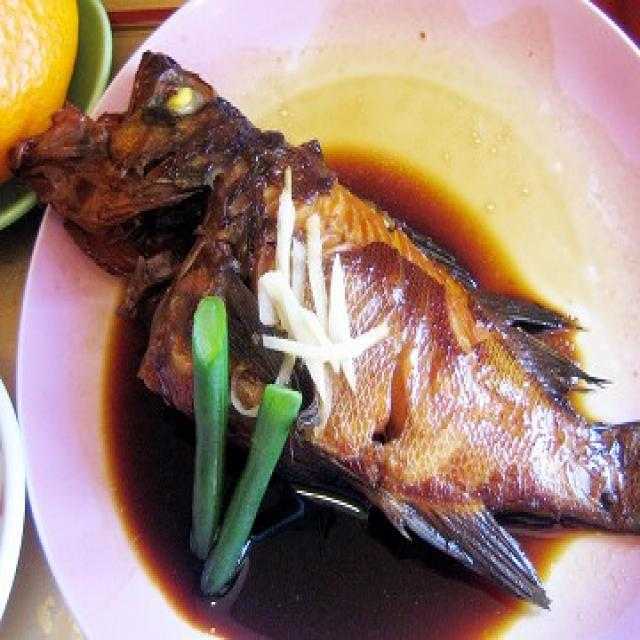熟制海鲜: (7, 14, 640, 633)
